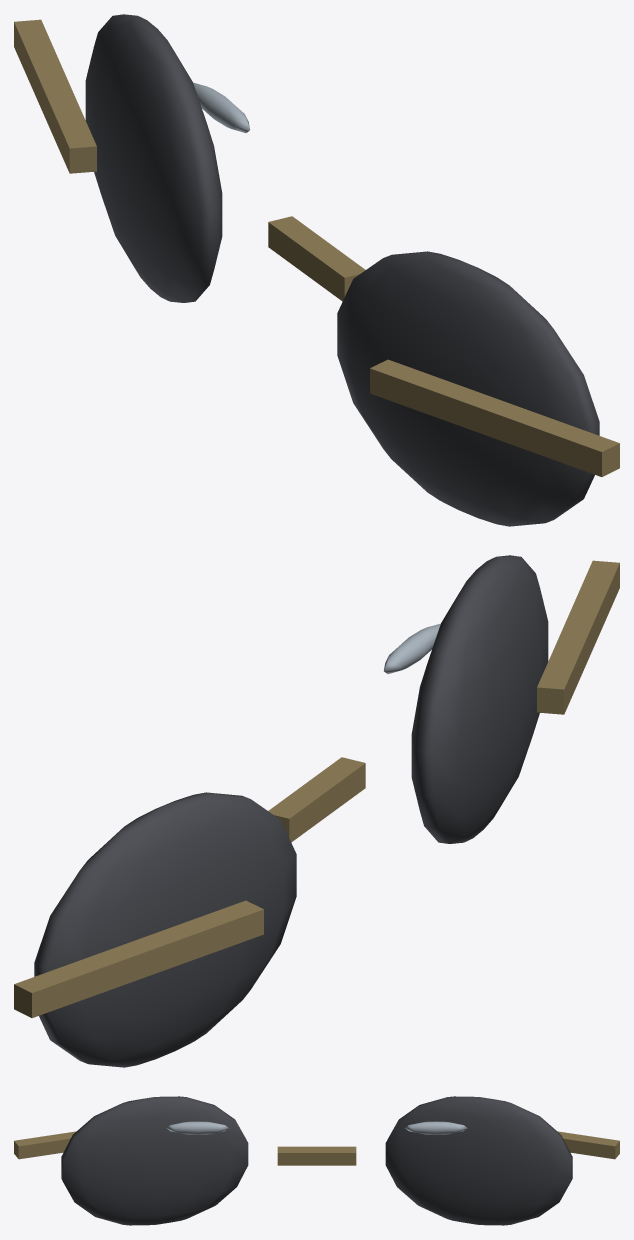
File: sunglasses.glb
3 views of the same model, one above another, from view 1: azimuth 30°, elevation 25°; view 2: azimuth 150°, elevation 25°; view 3: azimuth 270°, elevation 25° (orthographic). The views are drawn at different scales.
Visible parts, largest first — view 1: hat-sunglasses; view 2: hat-sunglasses; view 3: hat-sunglasses.
Part boxes in pixels (x1=…): hat-sunglasses: x1=14, y1=14, x2=619, y2=526; hat-sunglasses: x1=14, y1=555, x2=619, y2=1067; hat-sunglasses: x1=14, y1=1096, x2=619, y2=1225.
Bounding box in the file's own units: 0.0234 × 0.0396 × 0.1695.
